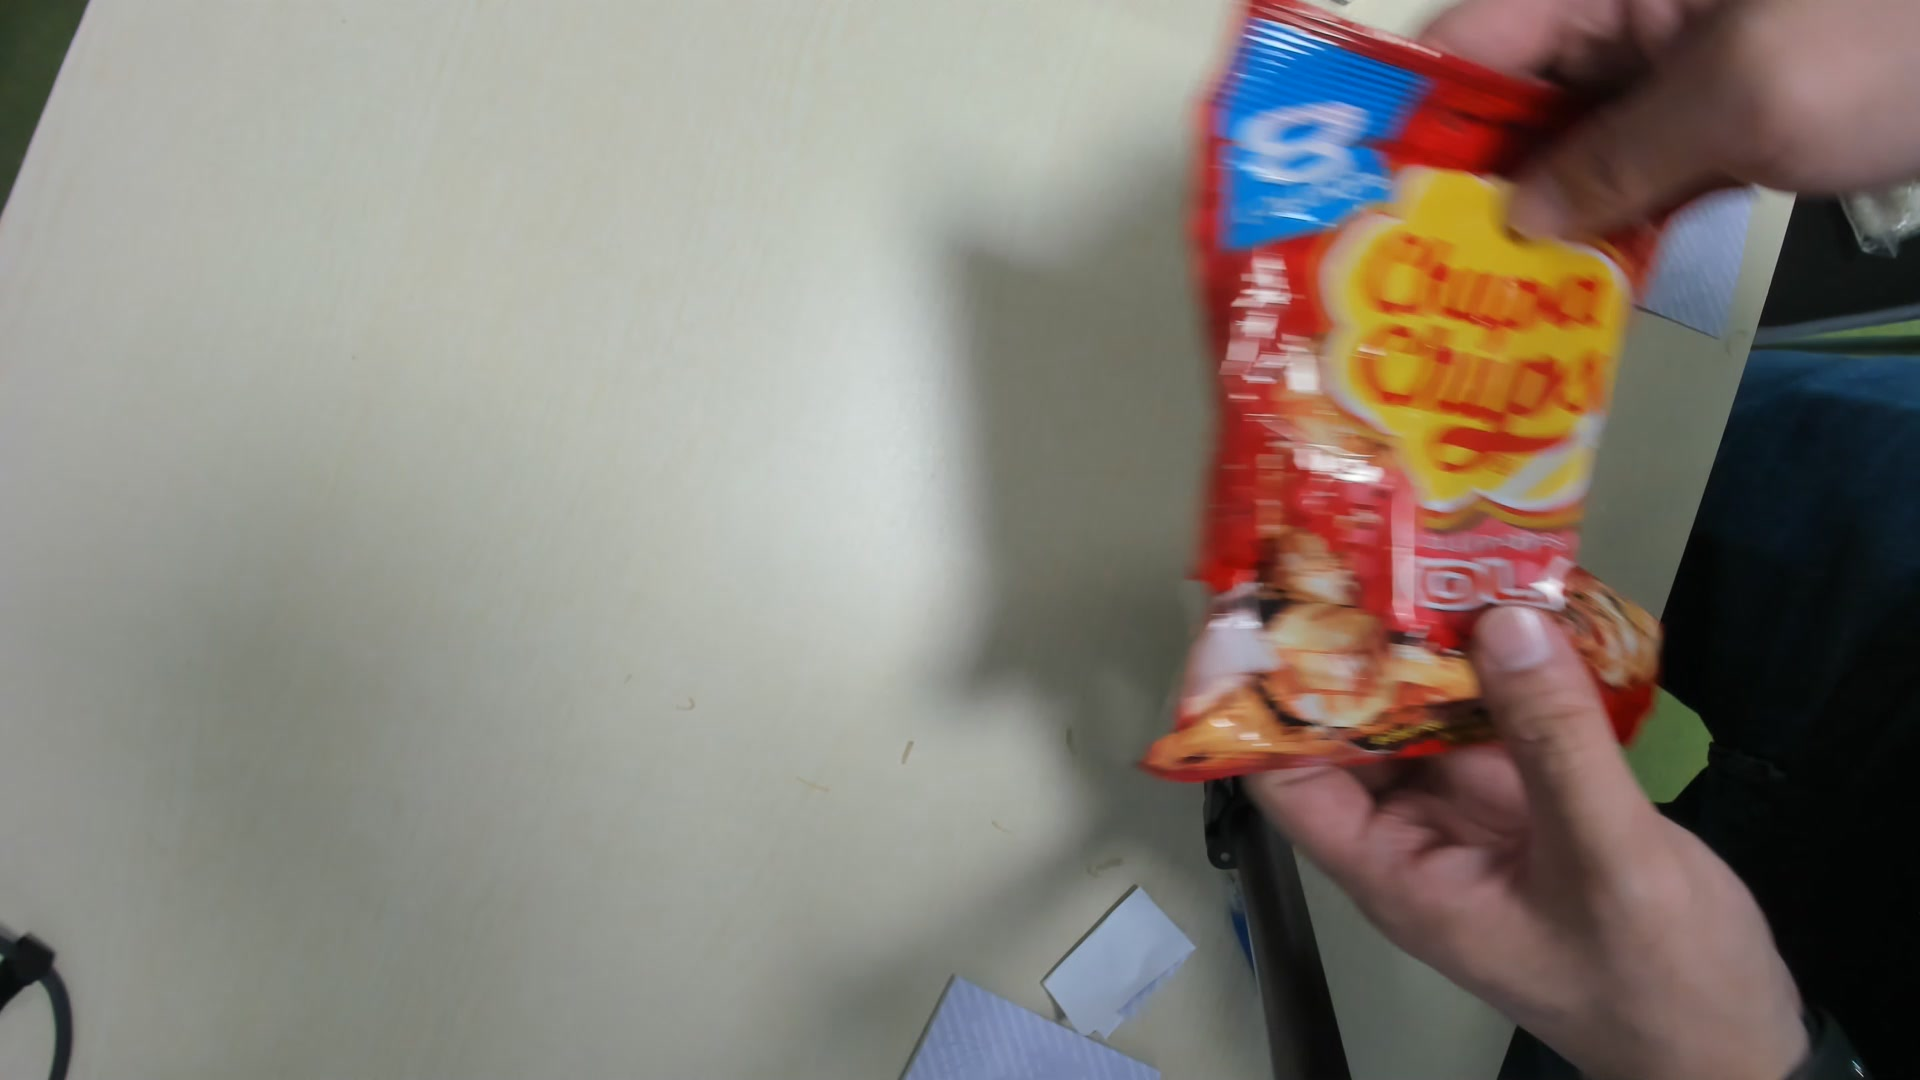SweetsChocolatesOthers_0-99g_NonHalal_Nonhealthy: (1163, 3, 1677, 789)
